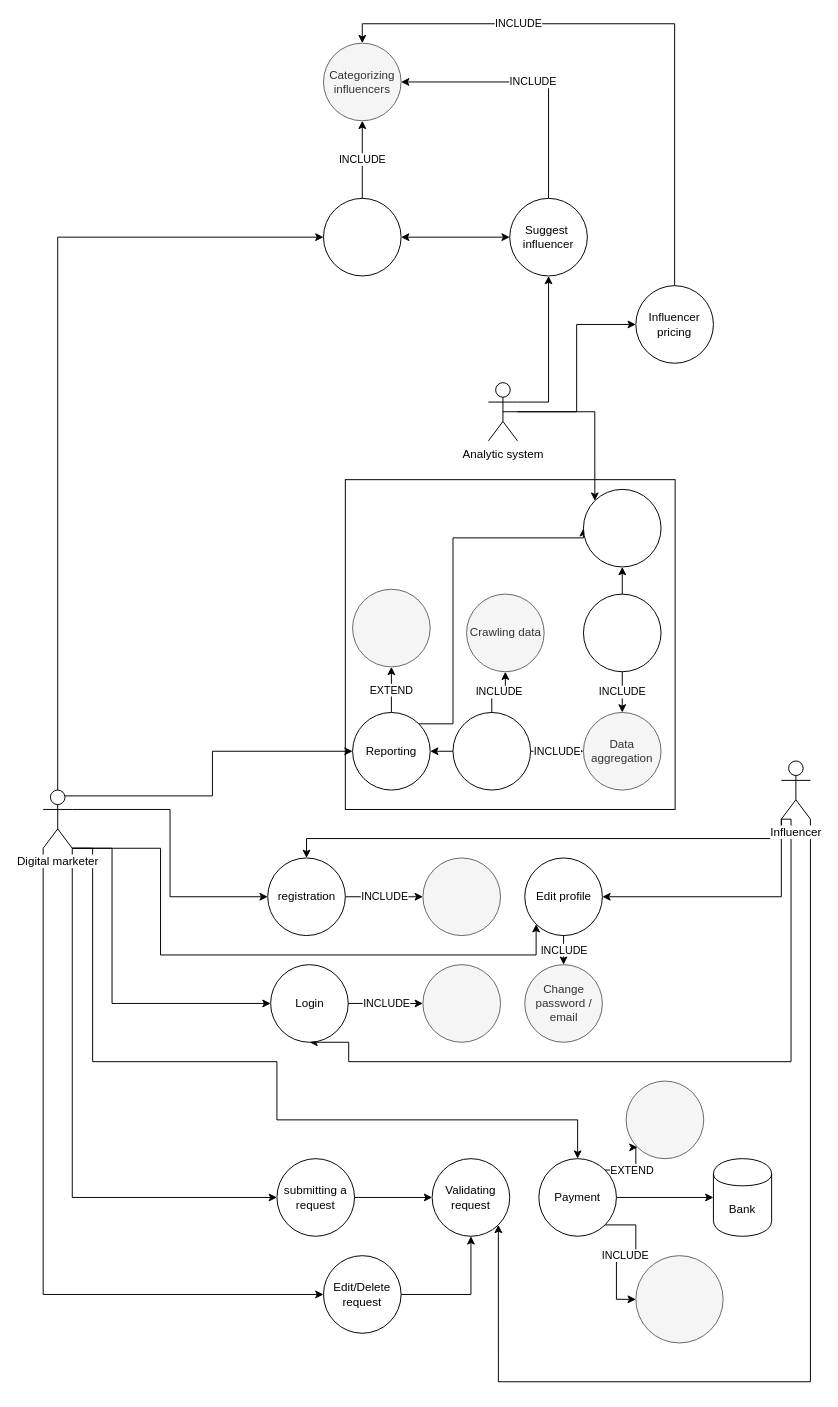
This 838x1407 diagram has some shape labels left out. The centre of each missing label's shape, as x and y in pixels:
"Analysis" goes at point 491,750.
"Chart and Tip generation" goes at point 391,627.
"email success / failure of payment" goes at point 679,1299.
"Email verification" goes at point 461,896.
"Password recovery" goes at point 461,1003.
"Rating" goes at point 621,632.
"recommending system" goes at point 621,527.
"Search for influencer" goes at point 362,236.
"unlock features" goes at point 664,1119.
